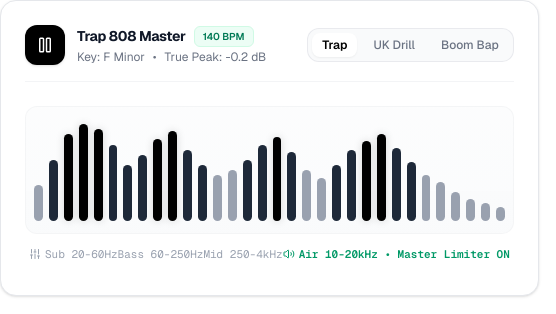
Test case: AudioWaveform and MiniAudioEqualizer components › AudioWaveform Visualizer › toggles playback state and updates button aria-label when play/pause is clicked
This screenshot has width=556, height=314.
Click the button named "pause studio audio preview" at (45, 45), box top-left (25, 25), bottom-right (65, 65)
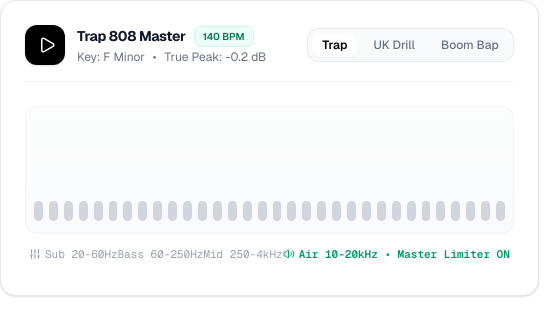
Expected: the button named "play studio audio preview" is shown
Click the button named "play studio audio preview" at (45, 45), box top-left (25, 25), bottom-right (65, 65)
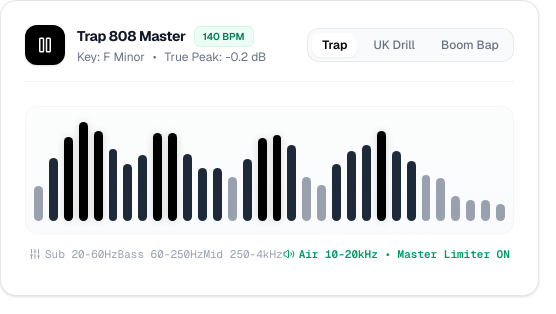
Expected: the button named "pause studio audio preview" is shown, top-left (25, 25), bottom-right (65, 65)
